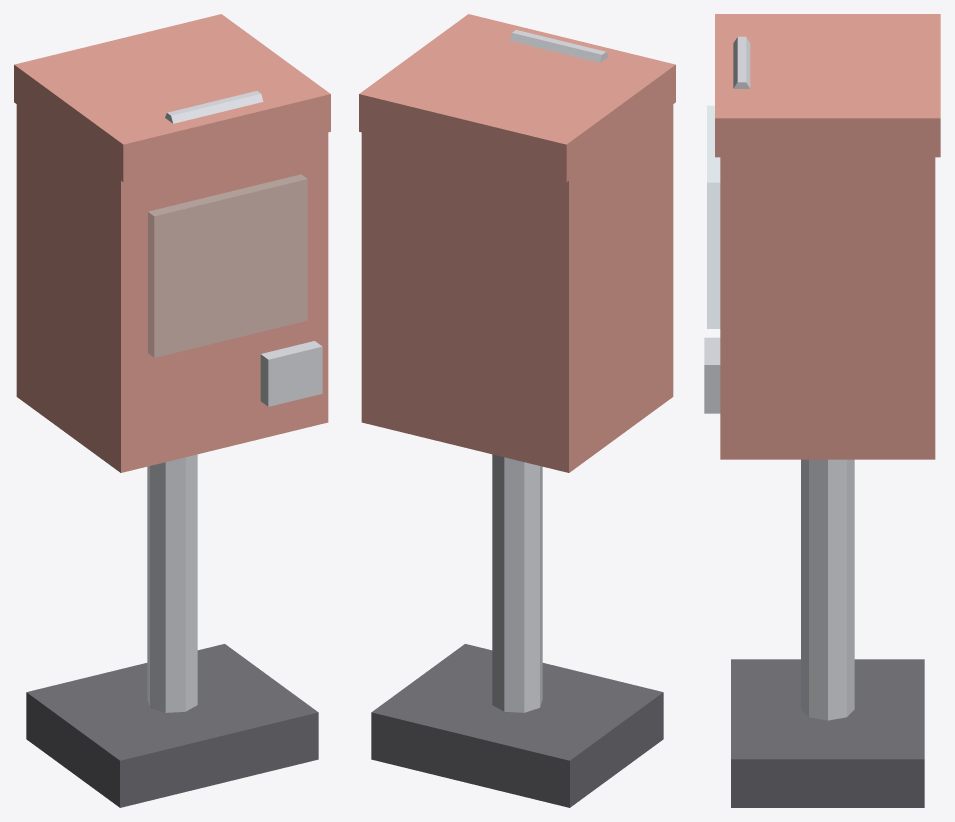
File: retro-diner-and-roadside-motel-newspaper-box-7834efd6__37363.glb
3 views of the same model, side by side, from view 1: azimuth 30°, elevation 25°; view 2: azimuth 150°, elevation 25°; view 3: azimuth 270°, elevation 25° (orthographic). The views are drawn at different scales.
Parts seen in each view (by area): view 1: newspaper-box-coral, flap/coral, newspaper-box-asphalt, newspaper-box-glass, newspaper-box-chrome, flap/chrome; view 2: newspaper-box-coral, flap/coral, newspaper-box-asphalt, newspaper-box-chrome, flap/chrome; view 3: newspaper-box-coral, flap/coral, newspaper-box-asphalt, newspaper-box-chrome, newspaper-box-glass, flap/chrome.
Part boxes in pixels (x1=…): newspaper-box-coral: x1=16, y1=104, x2=328, y2=472; flap/coral: x1=14, y1=14, x2=330, y2=182; newspaper-box-asphalt: x1=26, y1=644, x2=318, y2=807; newspaper-box-glass: x1=148, y1=174, x2=307, y2=357; newspaper-box-chrome: x1=147, y1=341, x2=322, y2=712; flap/chrome: x1=165, y1=91, x2=263, y2=123; newspaper-box-coral: x1=361, y1=104, x2=673, y2=472; flap/coral: x1=359, y1=14, x2=675, y2=182; newspaper-box-asphalt: x1=371, y1=644, x2=663, y2=807; newspaper-box-chrome: x1=492, y1=454, x2=542, y2=712; flap/chrome: x1=510, y1=30, x2=608, y2=62; newspaper-box-coral: x1=720, y1=157, x2=935, y2=459; flap/coral: x1=715, y1=14, x2=940, y2=157; newspaper-box-asphalt: x1=731, y1=659, x2=924, y2=807; newspaper-box-chrome: x1=704, y1=337, x2=854, y2=720; newspaper-box-glass: x1=707, y1=106, x2=719, y2=328; flap/chrome: x1=733, y1=36, x2=750, y2=88.
Size of the model in its own units: 0.46 by 1.43 by 0.44.
